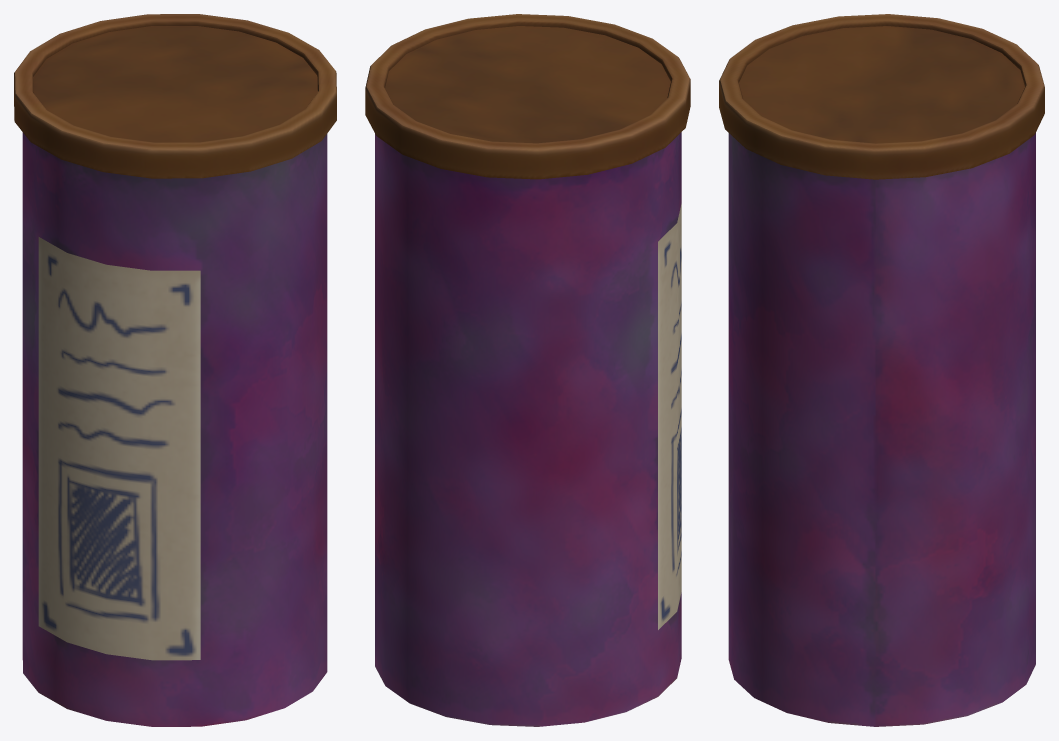
Rendered from SM_FoodPot_13.fbx.
3 renders of one model, left to right at view 1: azimuth 30°, elevation 25°; view 2: azimuth 150°, elevation 25°; view 3: azimuth 270°, elevation 25°, orthographic.
Parts seen in each view (by area): view 1: SM_FoodPot_13_LOD0; view 2: SM_FoodPot_13_LOD0; view 3: SM_FoodPot_13_LOD0.
Part boxes in pixels (x1,y1,x2,y2): SM_FoodPot_13_LOD0: (14, 14, 336, 726); SM_FoodPot_13_LOD0: (365, 14, 690, 726); SM_FoodPot_13_LOD0: (719, 14, 1044, 726).
Size of the model in its own units: 9.06 by 9.06 by 17.82.
2 materials, 2 textured.
